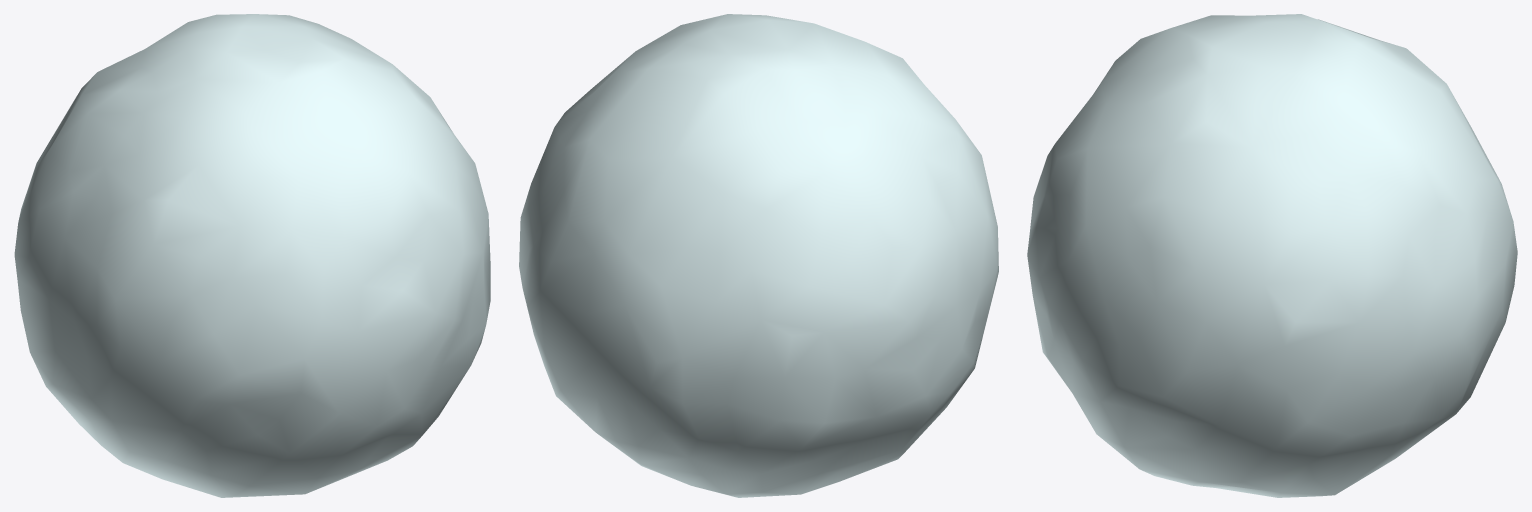
File: snowball_001.fbx
The picture shows the model from 3 angles, left to right: view 1: azimuth 30°, elevation 25°; view 2: azimuth 150°, elevation 25°; view 3: azimuth 270°, elevation 25°; orthographic projection.
Parts seen in each view (by area): view 1: snowball_001; view 2: snowball_001; view 3: snowball_001.
Part boxes in pixels (x1=…): snowball_001: x1=14, y1=14, x2=490, y2=497; snowball_001: x1=519, y1=14, x2=998, y2=497; snowball_001: x1=1027, y1=14, x2=1517, y2=497.
Size of the model in its own units: 200 by 202 by 199.
